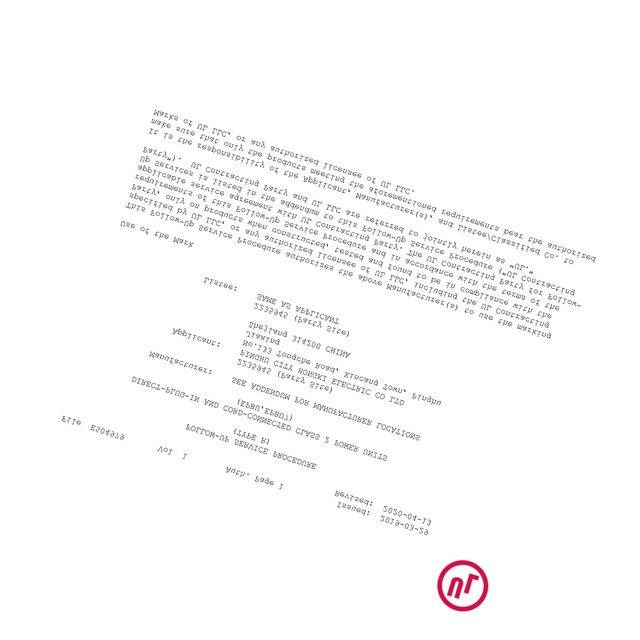ul: (438, 560, 491, 613)
